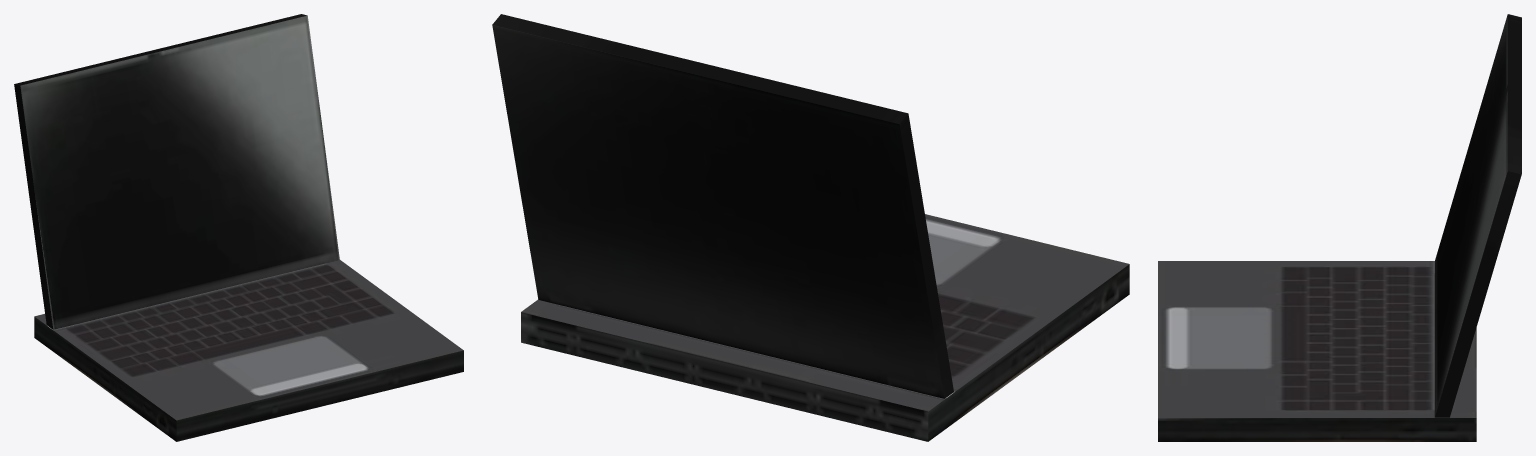
The model's file is laptop.fbx.
3 renders of one model, left to right at view 1: azimuth 30°, elevation 25°; view 2: azimuth 150°, elevation 25°; view 3: azimuth 270°, elevation 25°, orthographic. The views are drawn at different scales.
Parts seen in each view (by area): view 1: Cube; view 2: Cube; view 3: Cube.
Part boxes in pixels (x1,y1,x2,y2): Cube: (14,14,463,441); Cube: (492,14,1129,441); Cube: (1158,14,1521,441).
Size of the model in its own units: 280 by 225 by 274.
